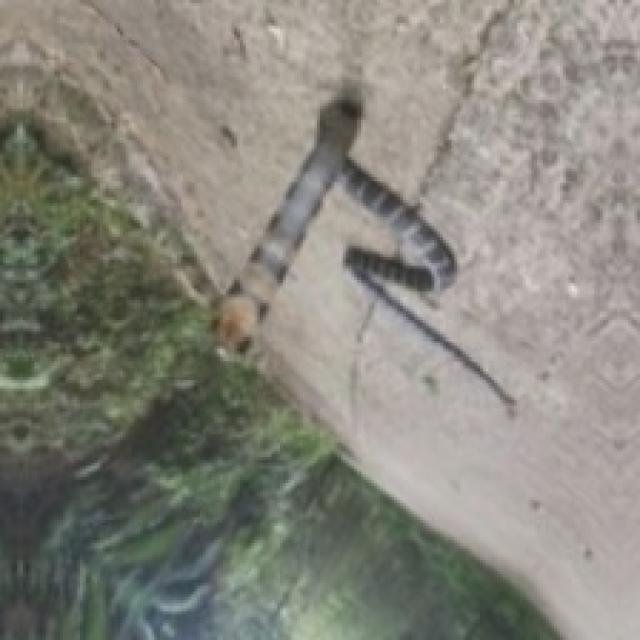king cobra: (217, 89, 514, 411)
